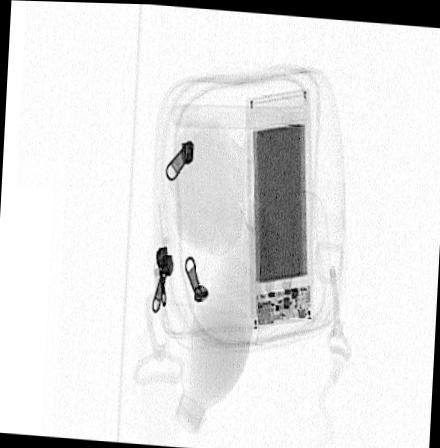Powerbank: (247, 84, 313, 329)
